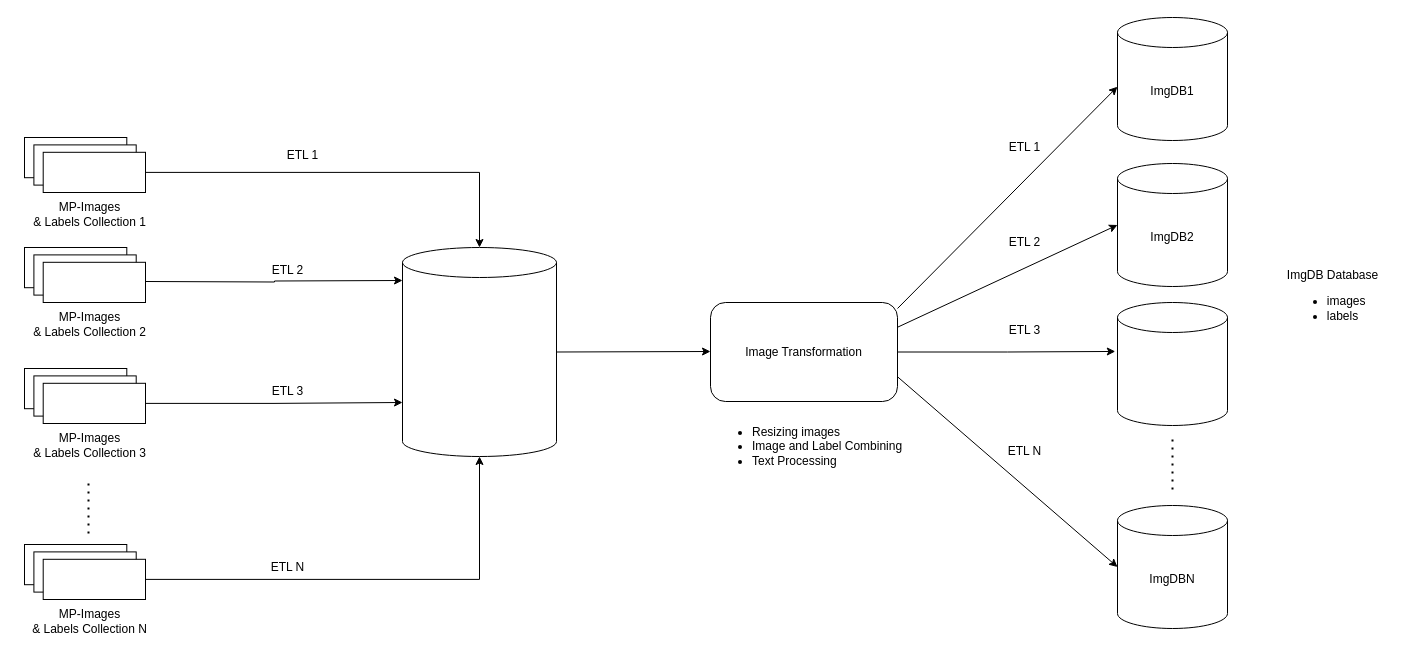
This 1409x661 diagram has some shape labels left out. Here are the shapes that lost their labels. From the top down, the centre of each, then its label:
the point at 479,351: MobileDB
the point at 1172,364: ImgDB3
